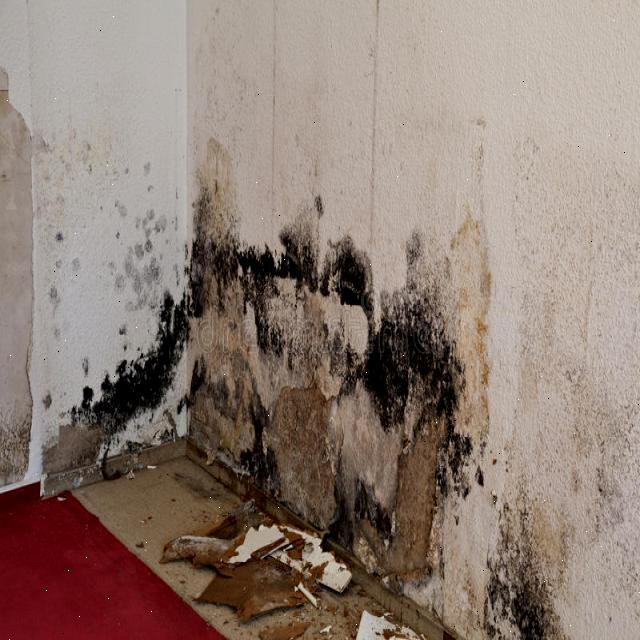dampness: (33, 223, 583, 639), (457, 188, 566, 247)
